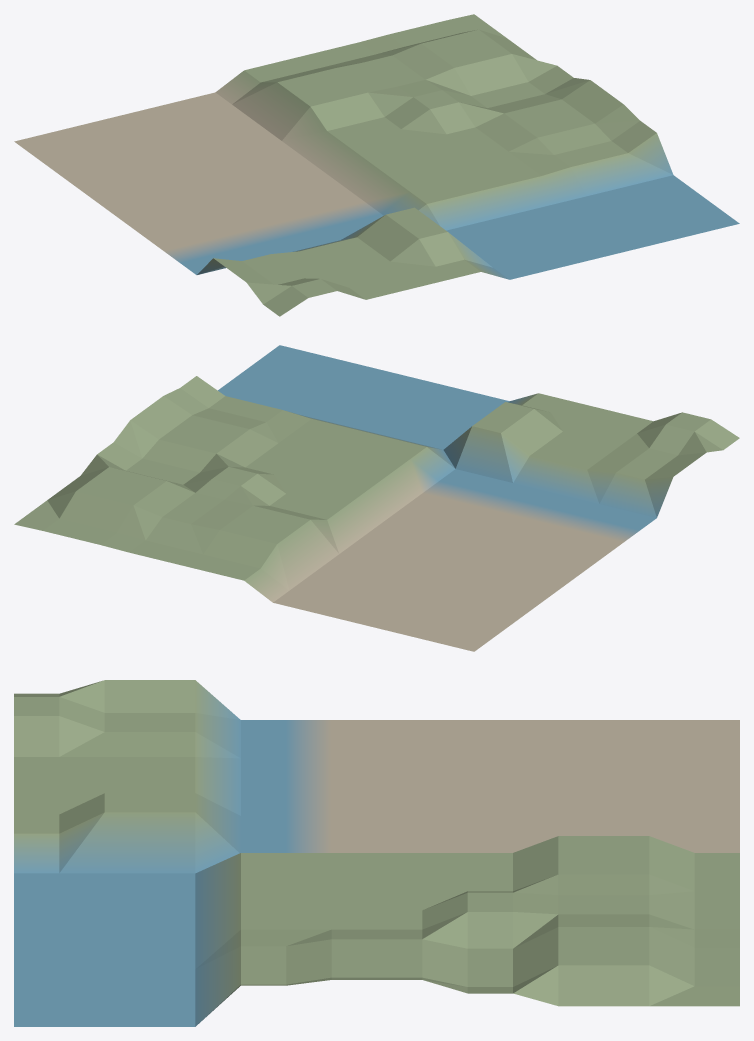
3 views of the same model, one above another, from view 1: azimuth 30°, elevation 25°; view 2: azimuth 150°, elevation 25°; view 3: azimuth 270°, elevation 25° (orthographic). The views are drawn at different scales.
Size of the model in its own units: 32 by 2.28 by 32.
